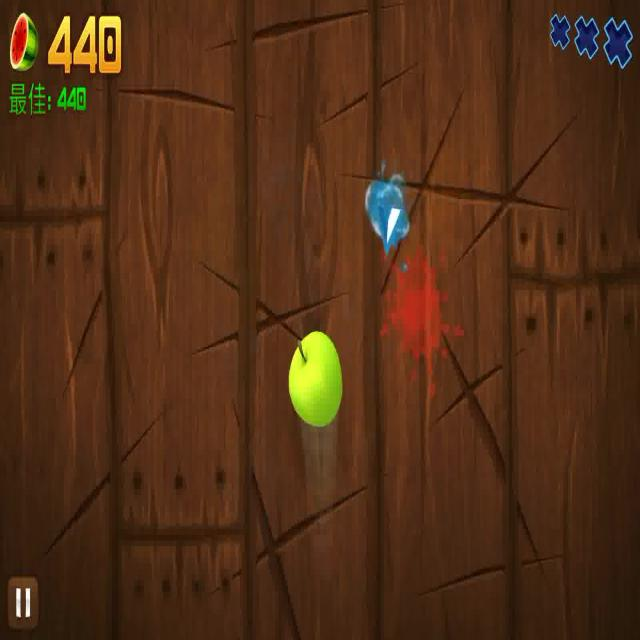fruit: (288, 328, 344, 427)
